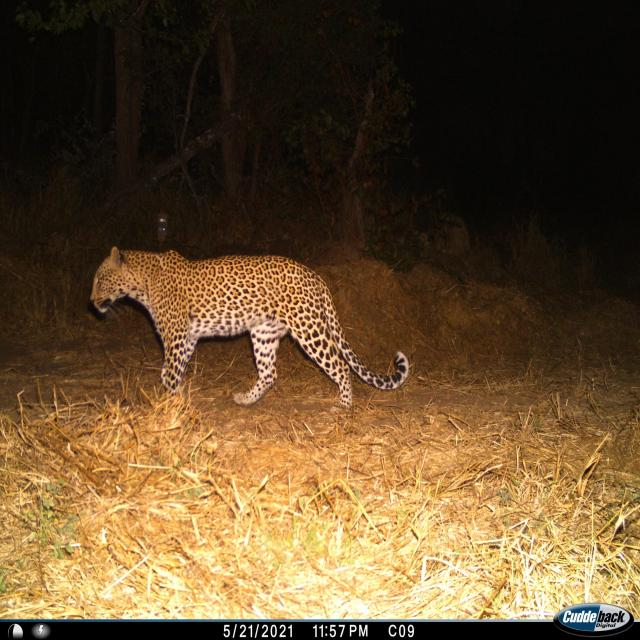Leopard: (100, 243, 415, 420)
